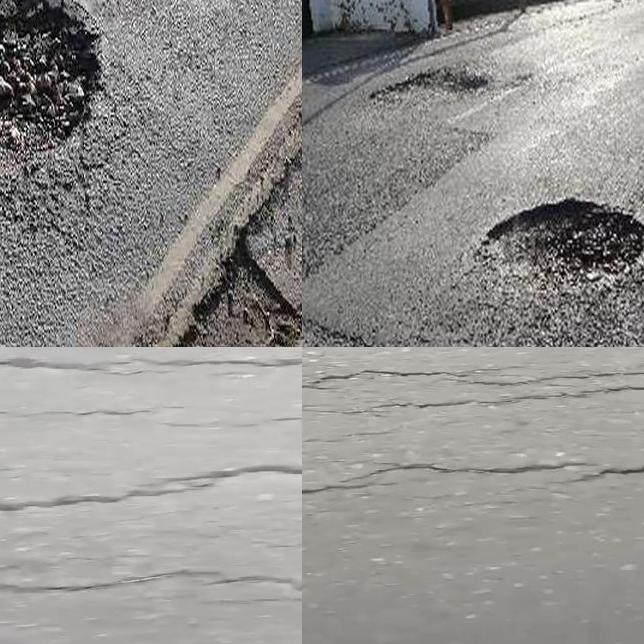Lubang: (0, 0, 100, 167), (490, 197, 644, 289), (380, 73, 493, 100)
Melintang: (302, 353, 644, 431), (0, 454, 302, 530), (302, 444, 644, 510), (0, 557, 302, 609), (0, 347, 302, 387)
